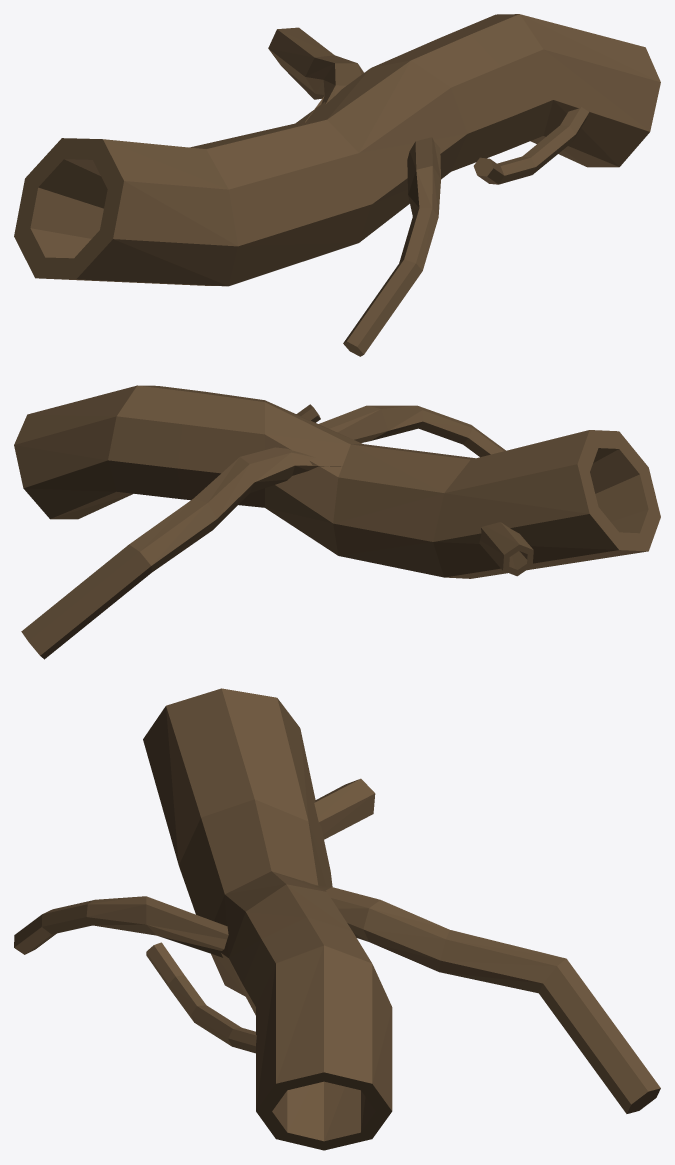
The model's file is SM_dead_trunk_01.fbx.
The picture shows the model from 3 angles, top to bottom: view 1: azimuth 30°, elevation 25°; view 2: azimuth 150°, elevation 25°; view 3: azimuth 270°, elevation 25°; orthographic projection. The views are drawn at different scales.
Visible parts, largest first — view 1: dead_trunk_01; view 2: dead_trunk_01; view 3: dead_trunk_01.
Part boxes in pixels (x1,y1,x2,y2): dead_trunk_01: (14,14,660,356); dead_trunk_01: (14,385,660,659); dead_trunk_01: (14,688,660,1150).
Bounding box in the file's own units: 290 × 89.48 × 243.
